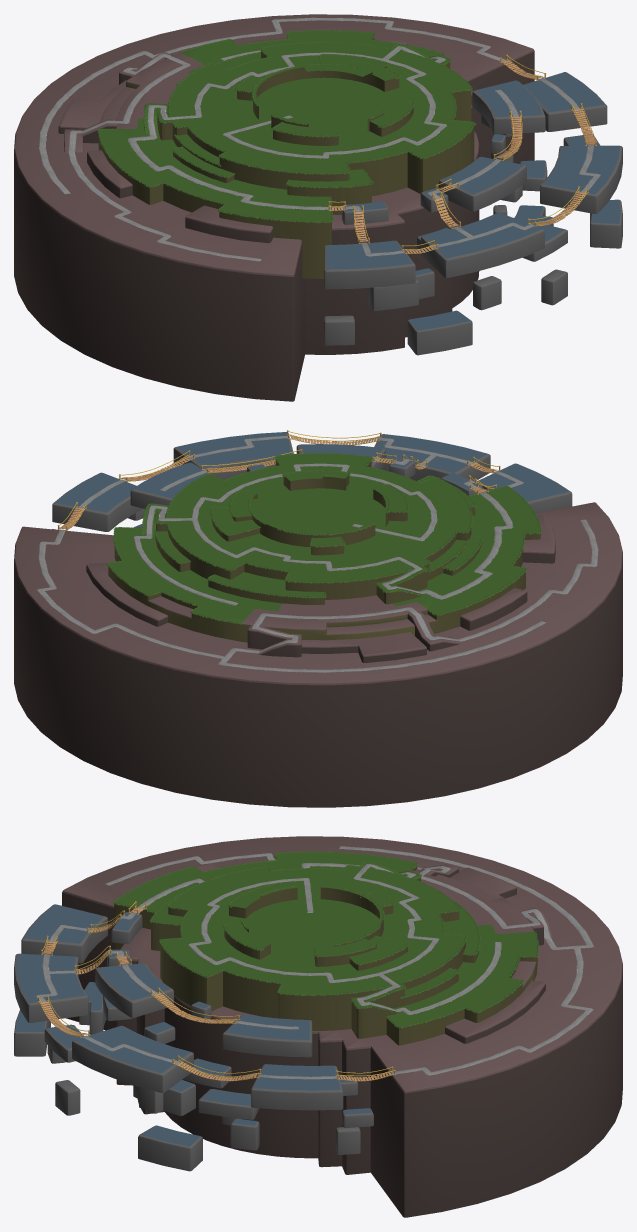
The model's file is MissionTable.fbx.
The picture shows the model from 3 angles, top to bottom: view 1: azimuth 30°, elevation 25°; view 2: azimuth 150°, elevation 25°; view 3: azimuth 270°, elevation 25°; orthographic projection.
Visible parts, largest first — view 1: SecondSteps, ForestKingdom, Main Islands, Small Islands.001, Path_Deadroot, GrassBlades, Path_ForestKingdom, Small Islands.002, Bridges, Path_FloatingIslands, Bridge_Rope_Top; view 2: SecondSteps, ForestKingdom, Main Islands, Path_Deadroot, Path_ForestKingdom, GrassBlades, Path_FloatingIslands, Bridges, Bridge_Rope_Top; view 3: SecondSteps, ForestKingdom, Main Islands, Small Islands.001, GrassBlades, Path_Deadroot, Path_ForestKingdom, Small Islands.002, Bridges, Path_FloatingIslands, Bridge_Rope_Top.
Part boxes in pixels (left/top/right/bottom): SecondSteps: left=14, top=14, right=534, bottom=401; ForestKingdom: left=98, top=31, right=474, bottom=278; Main Islands: left=324, top=72, right=622, bottom=289; Small Islands.001: left=324, top=115, right=622, bottom=355; Path_Deadroot: left=39, top=17, right=506, bottom=261; GrassBlades: left=97, top=30, right=476, bottom=223; Path_ForestKingdom: left=128, top=46, right=446, bottom=210; Small Islands.002: left=343, top=134, right=620, bottom=330; Bridges: left=331, top=60, right=595, bottom=253; Path_FloatingIslands: left=342, top=78, right=600, bottom=256; Bridge_Rope_Top: left=330, top=55, right=595, bottom=250; SecondSteps: left=14, top=502, right=622, bottom=807; ForestKingdom: left=108, top=454, right=540, bottom=642; Main Islands: left=52, top=432, right=572, bottom=531; Path_Deadroot: left=37, top=519, right=598, bottom=672; Path_ForestKingdom: left=133, top=463, right=512, bottom=605; GrassBlades: left=107, top=453, right=542, bottom=624; Path_FloatingIslands: left=77, top=436, right=523, bottom=509; Bridges: left=59, top=434, right=497, bottom=529; Bridge_Rope_Top: left=59, top=431, right=498, bottom=526; SecondSteps: left=62, top=836, right=622, bottom=1217; ForestKingdom: left=114, top=852, right=537, bottom=1045; Main Islands: left=14, top=904, right=343, bottom=1119; Small Islands.001: left=14, top=913, right=373, bottom=1171; GrassBlades: left=113, top=851, right=538, bottom=1028; Path_Deadroot: left=105, top=846, right=593, bottom=1076; Path_ForestKingdom: left=137, top=863, right=501, bottom=1014; Small Islands.002: left=16, top=912, right=371, bottom=1146; Bridges: left=40, top=907, right=391, bottom=1081; Path_FloatingIslands: left=36, top=912, right=340, bottom=1079; Bridge_Rope_Top: left=39, top=902, right=393, bottom=1076.
Size of the model in its own units: 4578 by 1476 by 4588.
